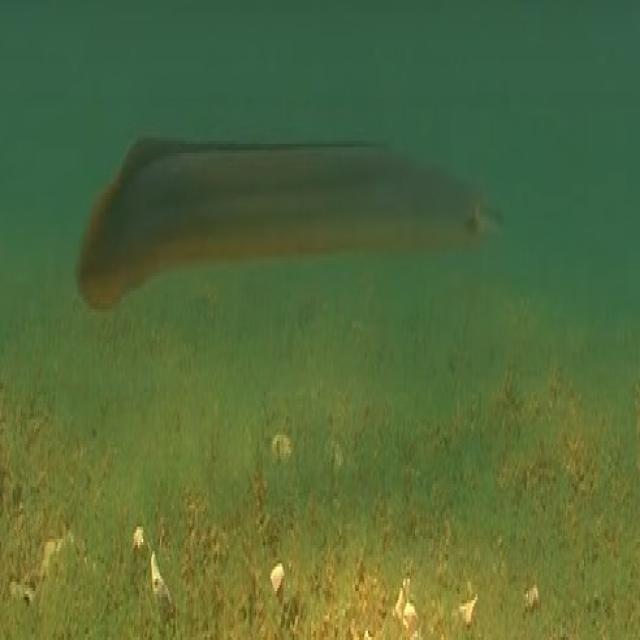Freshwater-Eel: (69, 103, 498, 304)
